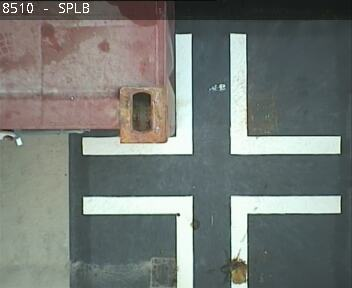groundmarker_1: (81, 34, 339, 157), (82, 194, 342, 288)
